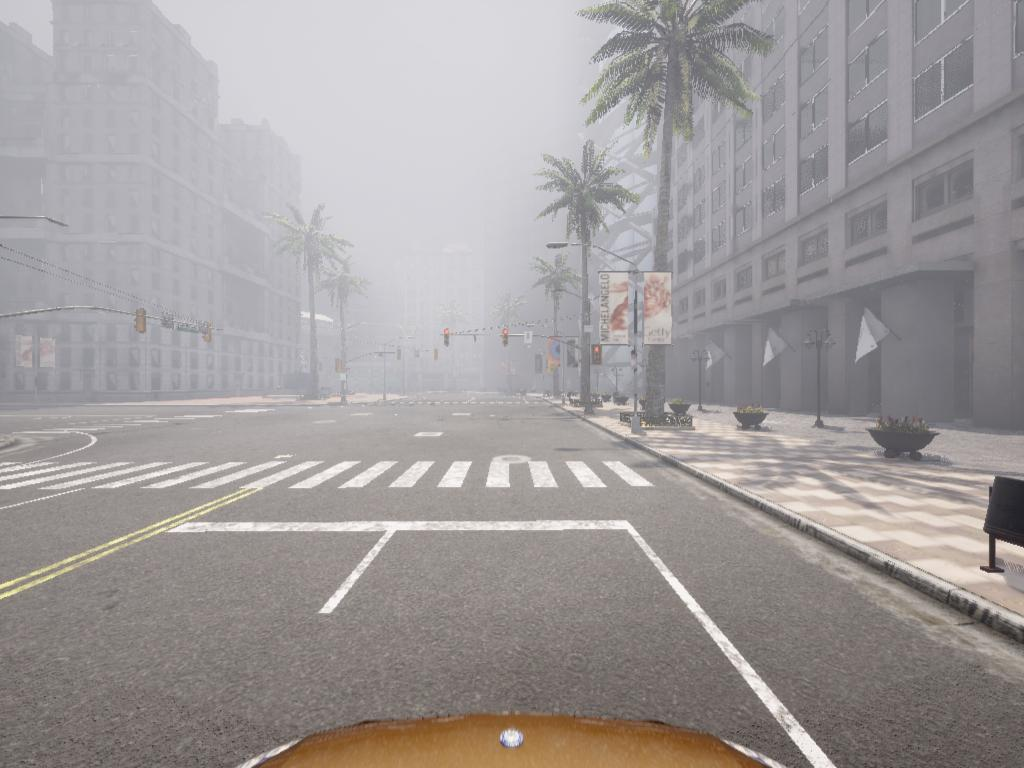traffic_light: (137, 312, 151, 335), (203, 324, 214, 344), (594, 348, 605, 366), (502, 329, 510, 346), (443, 329, 451, 345), (336, 358, 344, 373), (435, 350, 440, 362), (399, 350, 404, 362)
